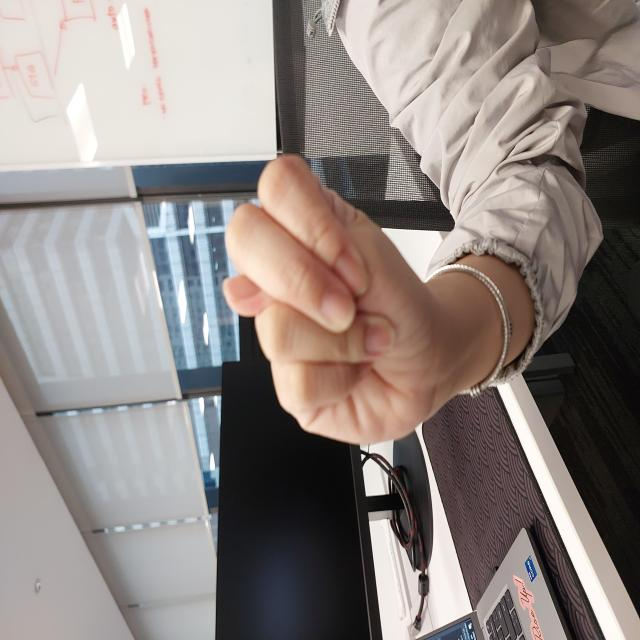N: (193, 222, 486, 444)
